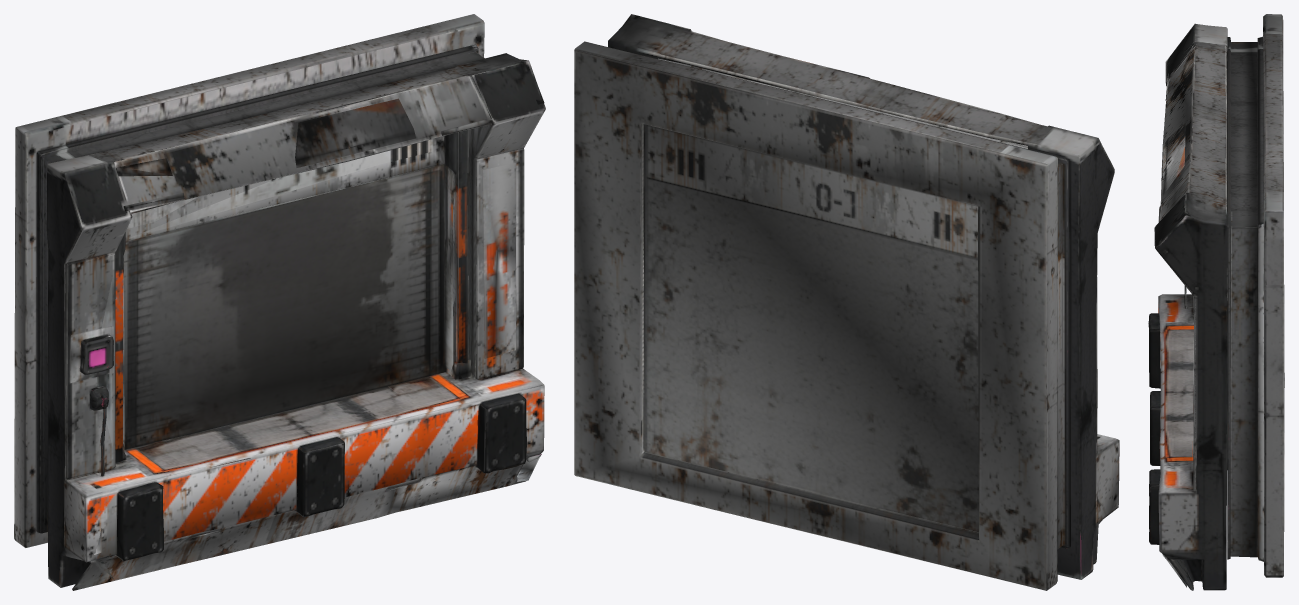
Rendered from loading_dock.glb.
3 renders of one model, left to right at view 1: azimuth 30°, elevation 25°; view 2: azimuth 150°, elevation 25°; view 3: azimuth 270°, elevation 25°, orthographic. The views are drawn at different scales.
Bounding box in the file's own units: 1 × 0.8965 × 0.291.
1 material, 1 textured.
